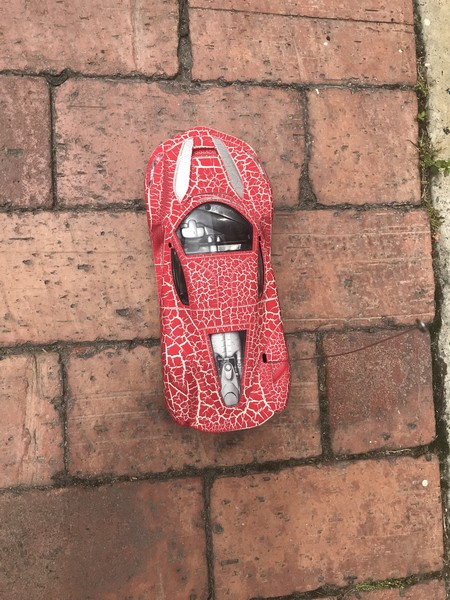RC: (141, 124, 295, 435)
